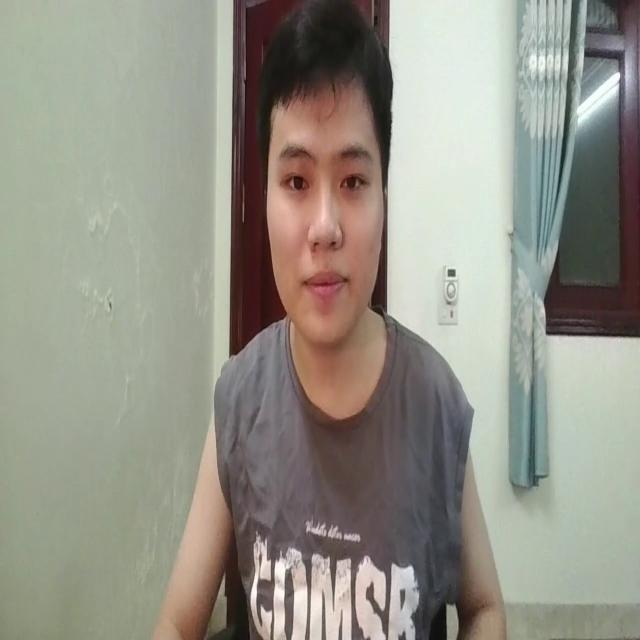student: (155, 0, 504, 640)
